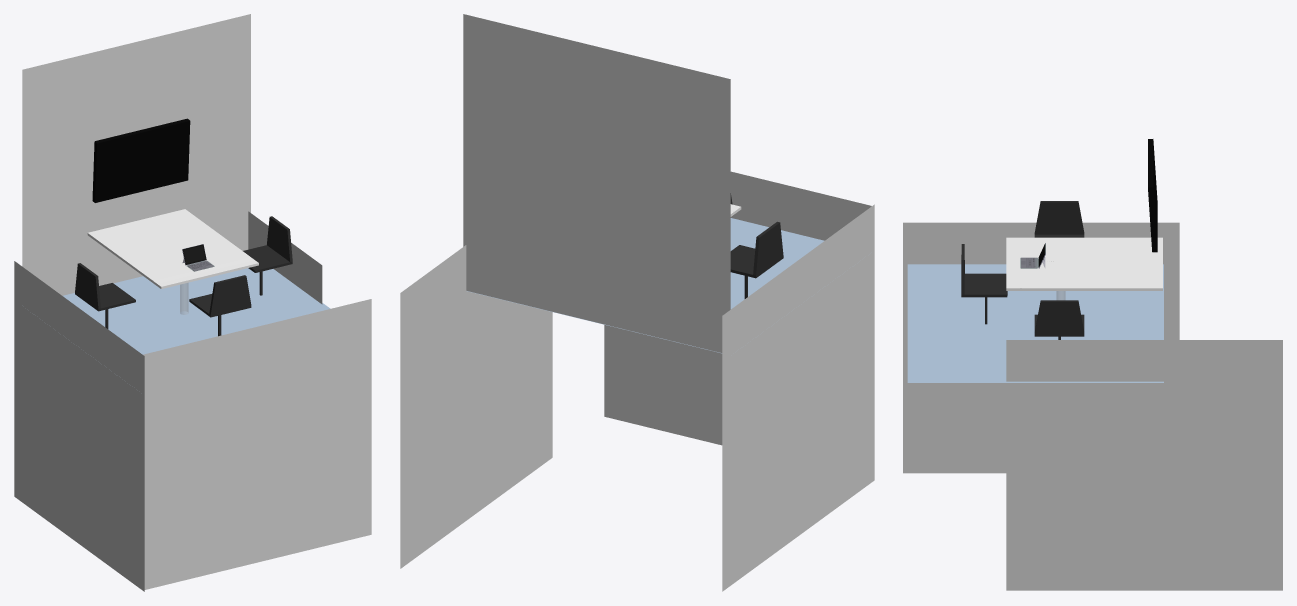
The model's file is besprechungsraum.glb.
The picture shows the model from 3 angles, left to right: view 1: azimuth 30°, elevation 25°; view 2: azimuth 150°, elevation 25°; view 3: azimuth 270°, elevation 25°; orthographic projection. The views are drawn at different scales.
Visible parts, largest first — view 1: Plane.003, Plane.001, Plane.002, Plane, Cube.001, Cube, Plane.004, Cube.002, Cube.005, Cube.006, Cube.003; view 2: Plane.001, Plane.002, Plane.004, Plane.003, Plane, Cube.006; view 3: Plane.004, Plane.002, Plane, Cube.001, Cube.005, Cube.006, Cube.002, Cube, Cube.003.
Boxes of the visible parts, <box> form: Plane.003: <box>143,299,371,589</box>; Plane.001: <box>22,14,250,295</box>; Plane.002: <box>14,261,144,591</box>; Plane: <box>63,268,330,354</box>; Cube.001: <box>88,209,252,285</box>; Cube: <box>92,118,190,202</box>; Plane.004: <box>248,211,322,304</box>; Cube.002: <box>189,275,251,336</box>; Cube.005: <box>243,216,292,295</box>; Cube.006: <box>75,263,135,328</box>; Cube.003: <box>87,233,258,288</box>; Plane.001: <box>463,14,730,352</box>; Plane.002: <box>722,204,874,591</box>; Plane.004: <box>400,245,552,568</box>; Plane.003: <box>604,171,871,445</box>; Plane: <box>467,218,824,353</box>; Cube.006: <box>730,221,783,298</box>; Plane.004: <box>1006,340,1282,590</box>; Plane.002: <box>903,222,1179,473</box>; Plane: <box>907,264,1163,382</box>; Cube.001: <box>1015,237,1162,290</box>; Cube.005: <box>1034,300,1084,339</box>; Cube.006: <box>1034,201,1084,237</box>; Cube.002: <box>961,244,1007,324</box>; Cube: <box>1148,139,1157,252</box>; Cube.003: <box>1006,237,1054,290</box>.
Size of the model in its own units: 3.05 by 5.5 by 4.12.
Materials: 13 (1 with a texture image).
